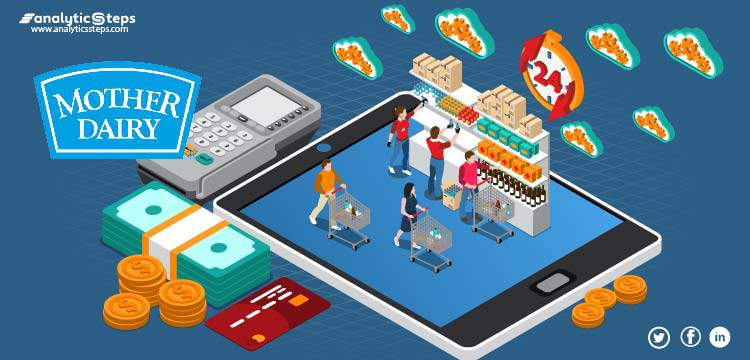Mother_Dairy: (28, 63, 197, 162)
